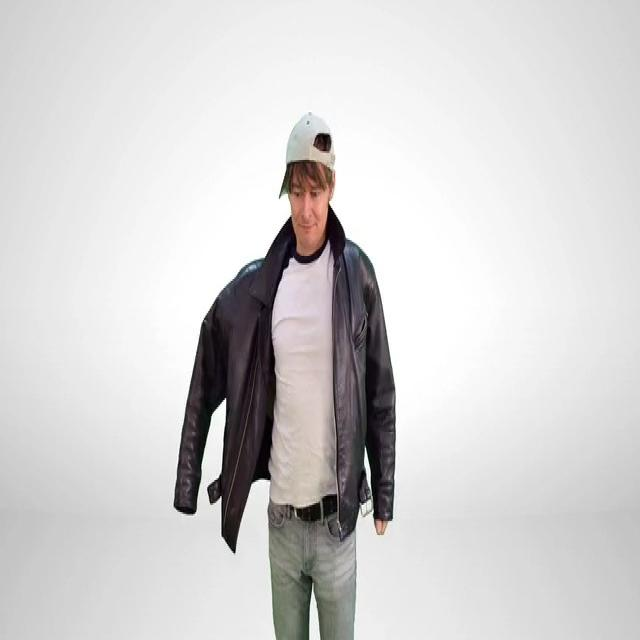Jacket_Wearer: (177, 218, 391, 548)
Person: (174, 111, 392, 640)
